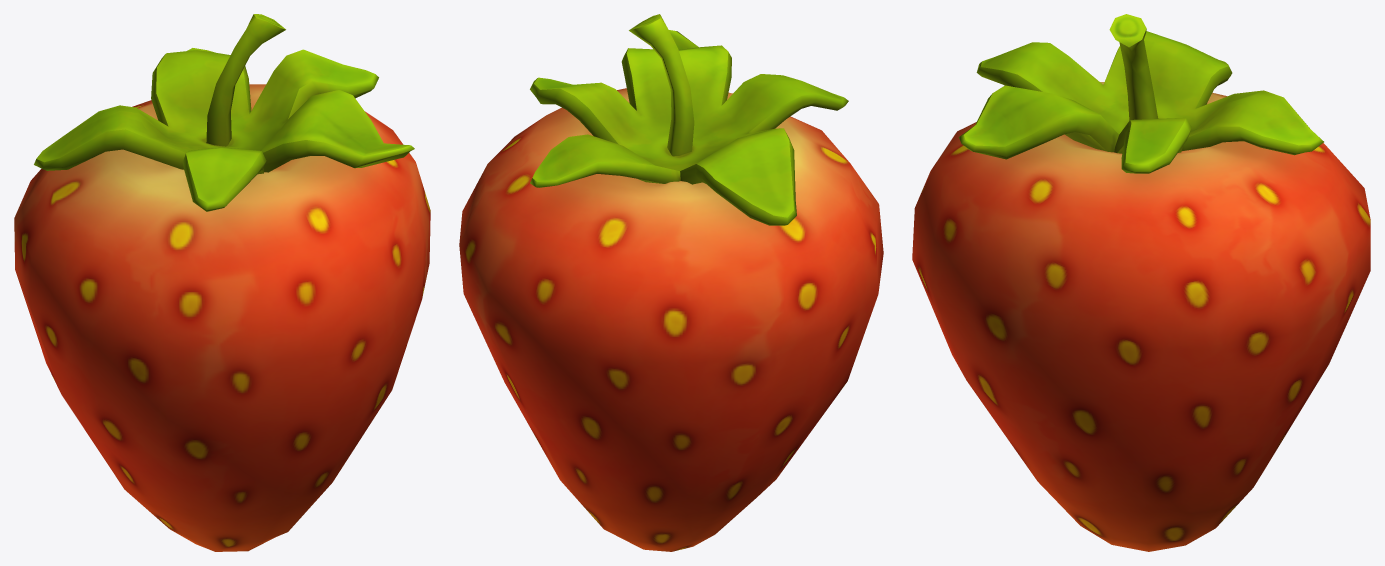
File: m_Strawberry_v2.fbx
The picture shows the model from 3 angles, left to right: view 1: azimuth 30°, elevation 25°; view 2: azimuth 150°, elevation 25°; view 3: azimuth 270°, elevation 25°; orthographic projection. The views are drawn at different scales.
Visible parts, largest first — view 1: SM_StrawberryA; view 2: SM_StrawberryA; view 3: SM_StrawberryA.
Part boxes in pixels (x1=…): SM_StrawberryA: x1=14, y1=14, x2=430, y2=551; SM_StrawberryA: x1=459, y1=14, x2=883, y2=551; SM_StrawberryA: x1=912, y1=14, x2=1370, y2=551.
Size of the model in its own units: 6.93 by 9.59 by 7.4.
